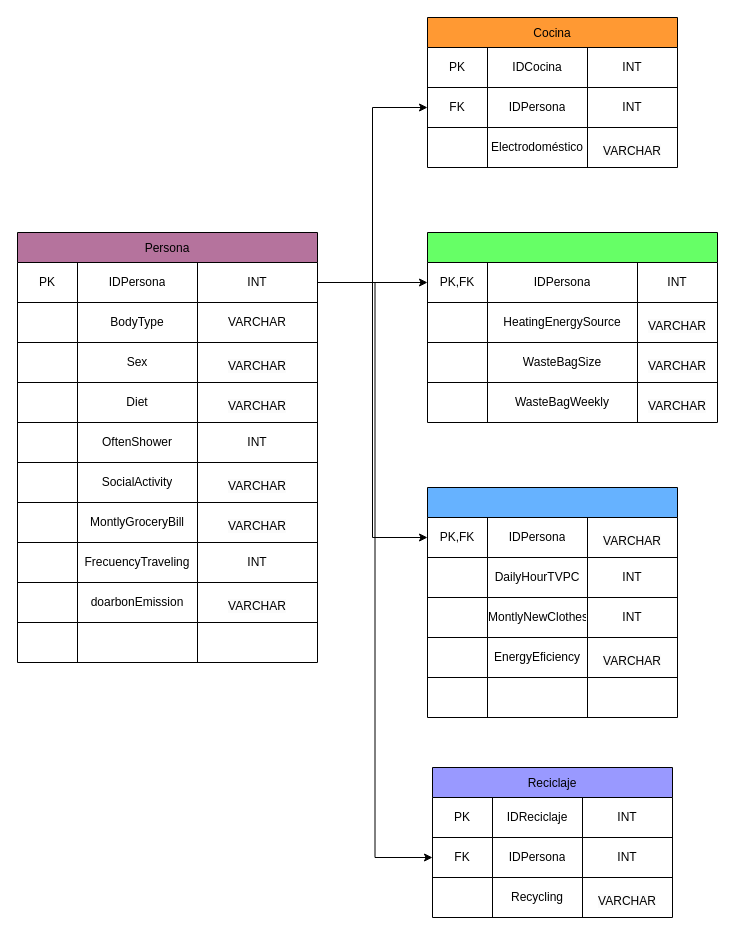
Some shapes in this 735 by 935 pixel diagram are drawn without their labels. The shapes that lost their labels are listed below. From the top down, each one's box as (x1, y1, x2, y2) in pixels, then its label:
(426, 232, 718, 422): Energia
(426, 486, 678, 718): Hábitos
